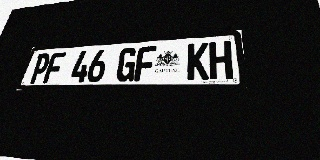4: (69, 50, 93, 83)
6: (86, 49, 109, 82)
F: (134, 46, 156, 81), (42, 52, 66, 83)
G: (115, 47, 138, 82)
H: (209, 41, 233, 80)
K: (187, 42, 209, 80)
P: (28, 53, 52, 84)
